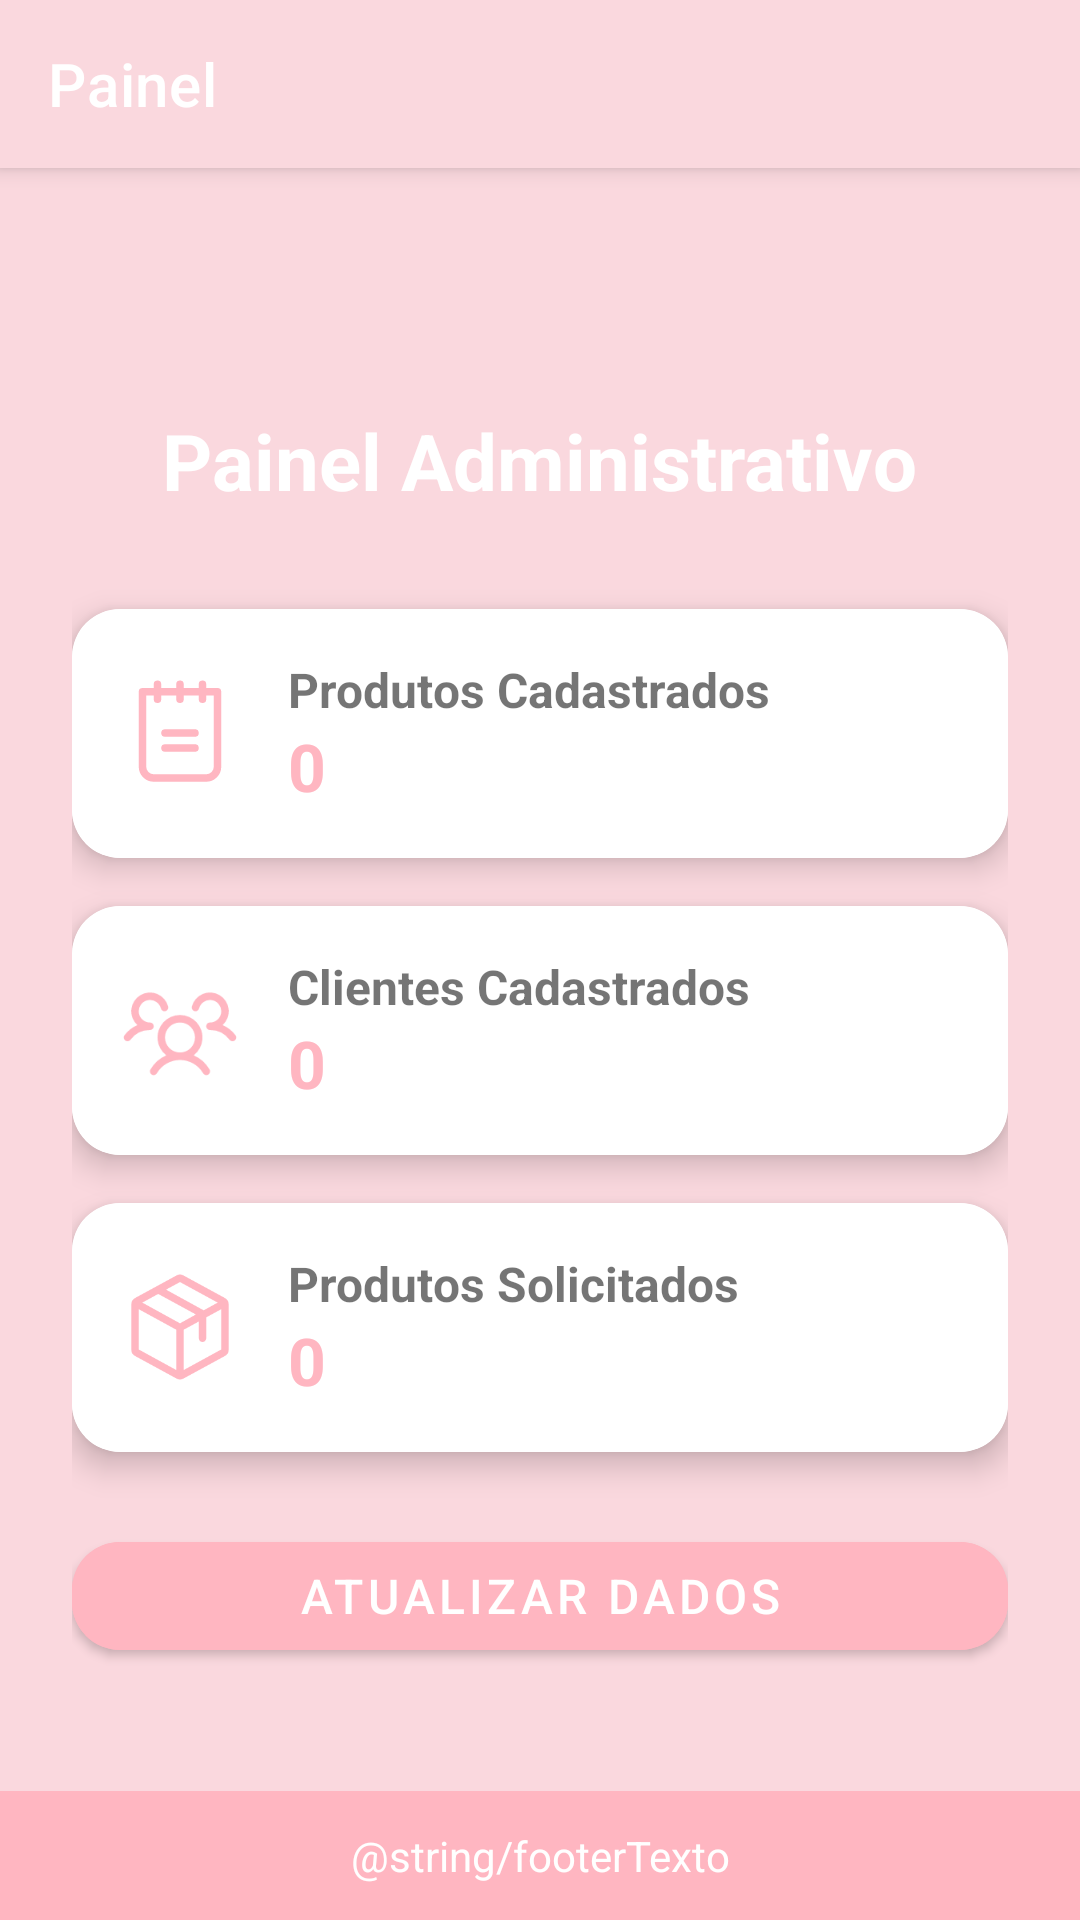

Screen size 1080×1920. Icon name, then its center in pixels as [x,y]:
notepad: [180,731]
resource package: [180,1327]
users three: [180,1033]
